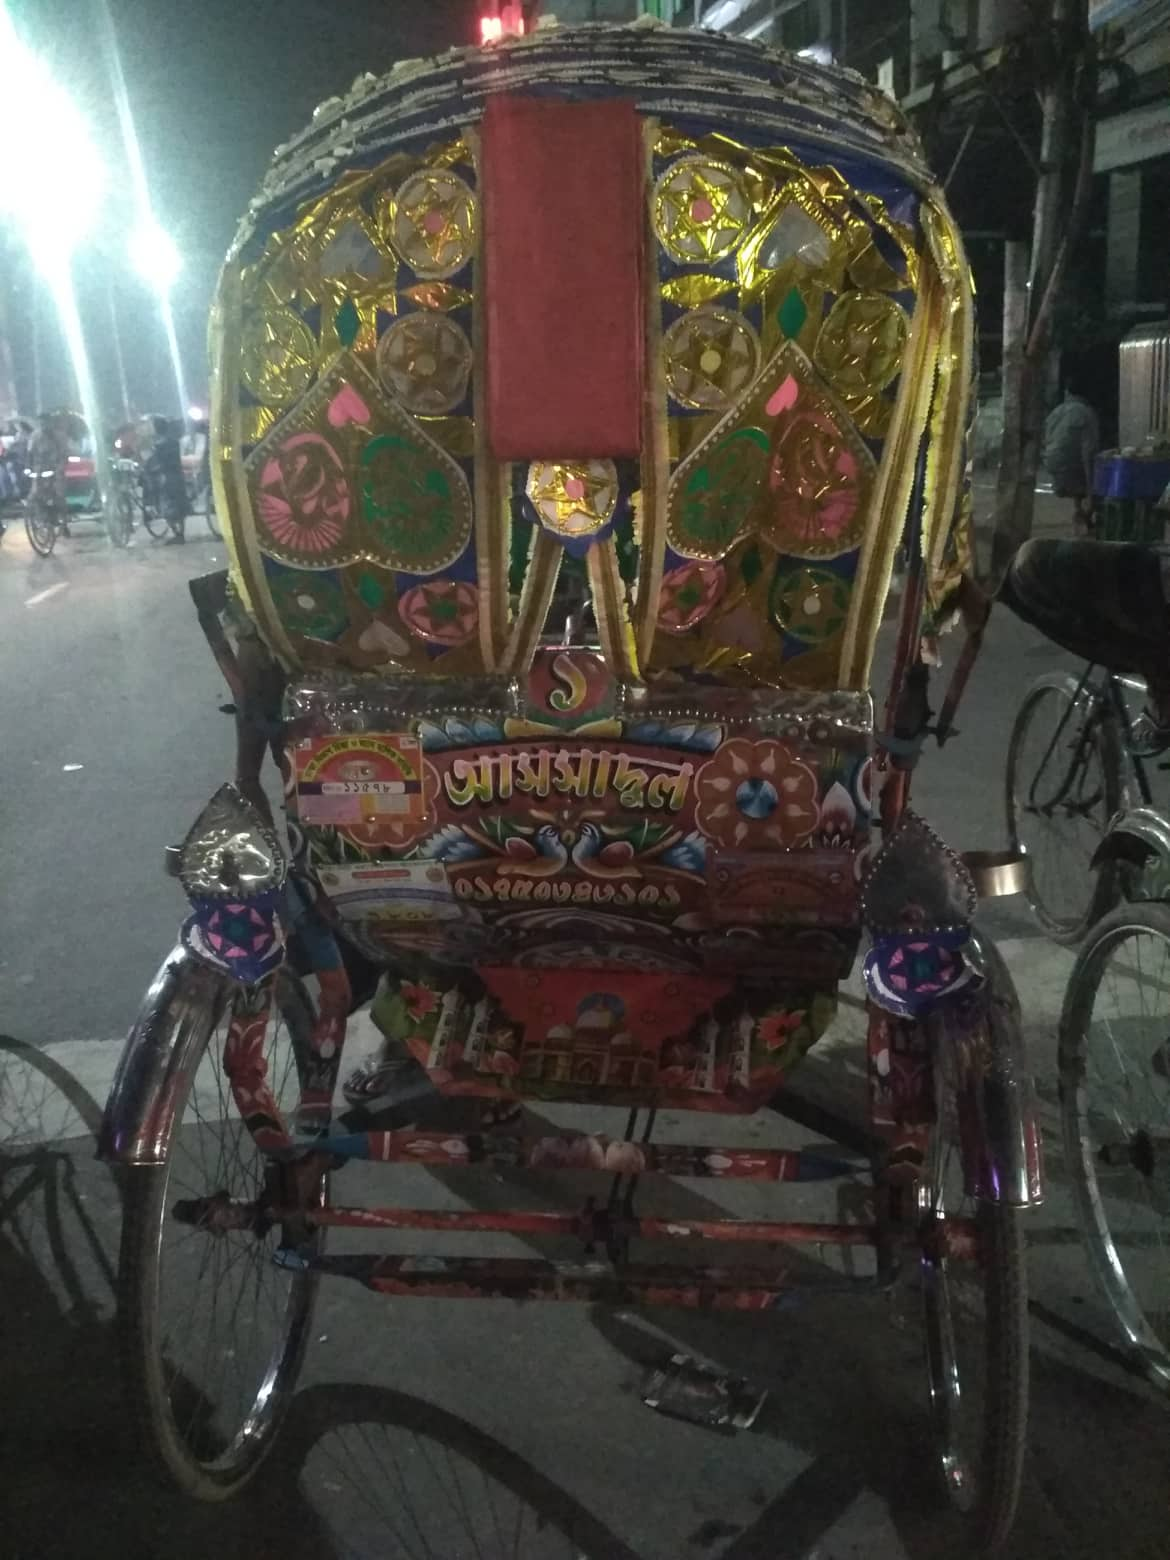Rickshaw: (134, 18, 1043, 1424)
